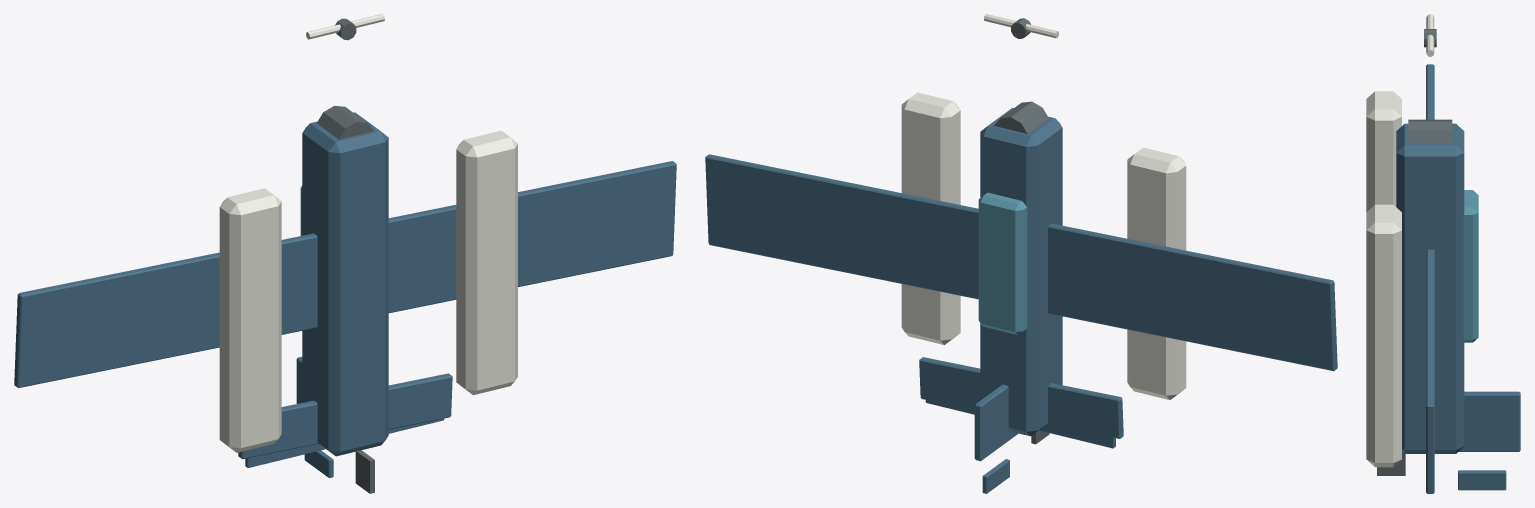
3 renders of one model, left to right at view 1: azimuth 30°, elevation 25°; view 2: azimuth 150°, elevation 25°; view 3: azimuth 270°, elevation 25°, orthographic. The views are drawn at different scales.
Visible parts, largest first — view 1: main_wing.016, fuselage.011, float_-1.003, float_1.003, horizontal_tail.016, engine_mount_0.016, elevator.016, water_rudder.003; view 2: main_wing.016, fuselage.011, float_-1.003, float_1.003, canopy.011, horizontal_tail.016, aileron_L.016, aileron_R.016, vertical_tail.016, elevator.016, engine_mount_0.016; view 3: fuselage.011, float_1.003, float_-1.003, vertical_tail.016, main_wing.016, canopy.011, engine_mount_0.016, rudder.016, water_rudder.003, prop_blade.051.
Boxes of the visible parts, x1=… form: main_wing.016: x1=14, y1=161, x2=676, y2=387; fuselage.011: x1=302, y1=112, x2=388, y2=456; float_-1.003: x1=219, y1=188, x2=281, y2=452; float_1.003: x1=456, y1=130, x2=517, y2=395; horizontal_tail.016: x1=238, y1=373, x2=452, y2=459; engine_mount_0.016: x1=316, y1=105, x2=373, y2=139; elevator.016: x1=245, y1=418, x2=444, y2=467; water_rudder.003: x1=355, y1=450, x2=374, y2=493; main_wing.016: x1=705, y1=154, x2=1337, y2=371; fuselage.011: x1=980, y1=108, x2=1062, y2=436; float_-1.003: x1=1127, y1=147, x2=1186, y2=399; float_1.003: x1=901, y1=92, x2=960, y2=344; canopy.011: x1=978, y1=192, x2=1027, y2=334; horizontal_tail.016: x1=919, y1=357, x2=1123, y2=438; aileron_L.016: x1=1164, y1=295, x2=1325, y2=359; aileron_R.016: x1=713, y1=185, x2=874, y2=249; vertical_tail.016: x1=974, y1=384, x2=1018, y2=461; elevator.016: x1=925, y1=381, x2=1115, y2=448; engine_mount_0.016: x1=994, y1=101, x2=1048, y2=133; fuselage.011: x1=1396, y1=123, x2=1464, y2=453; float_1.003: x1=1366, y1=204, x2=1401, y2=467; float_-1.003: x1=1366, y1=91, x2=1401, y2=211; vertical_tail.016: x1=1458, y1=391, x2=1520, y2=451; main_wing.016: x1=1426, y1=64, x2=1434, y2=493; canopy.011: x1=1463, y1=190, x2=1478, y2=342; engine_mount_0.016: x1=1408, y1=119, x2=1452, y2=142; rudder.016: x1=1458, y1=470, x2=1506, y2=490; water_rudder.003: x1=1377, y1=452, x2=1405, y2=475; prop_blade.051: x1=1426, y1=14, x2=1434, y2=56.
Bounding box in the file's own units: 10.55 × 7.14 × 2.17.
